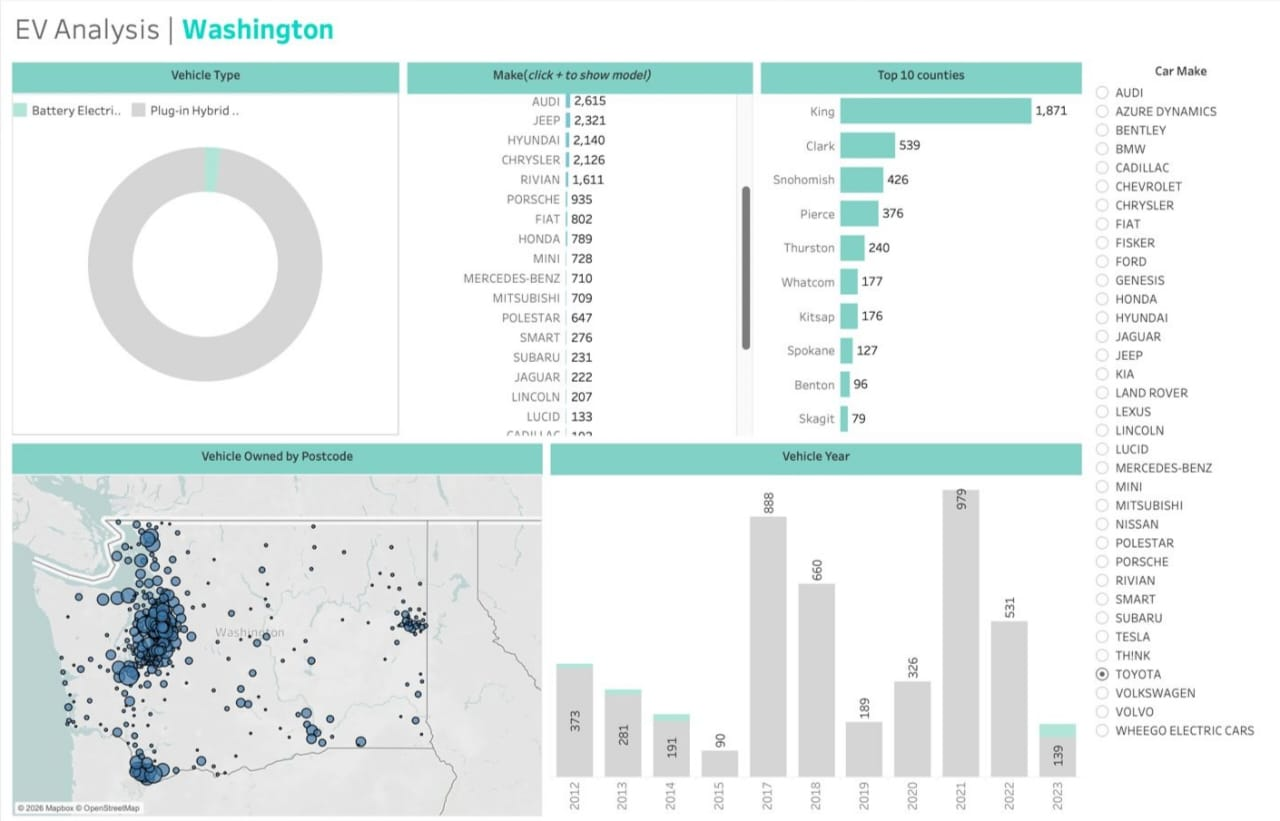

The dashboard page shown, as its layout file describes it:
{"tool":"tableau","page":{"name":"Dashboard 1","canvas":[1300,850],"ordinal":0},"visuals":[{"type":"text","box":[8,8,1284,62.1]},{"type":"worksheet","title":"Vehicle Type Donut","mark":"Pie","rows":["Calculation_0354000409198594","Calculation_0354000409198594"],"box":[8,70.1,399.7,386]},{"type":"worksheet","title":"Make & Model","mark":"Automatic","rows":["Make"],"cols":["DOL Vehicle ID"],"box":[407.7,70.1,358.5,386]},{"type":"worksheet","title":"Top 10 Counties","mark":"Automatic","rows":["County"],"cols":["DOL Vehicle ID"],"box":[766.2,70.1,332.8,386]},{"type":"parameter","param":"[Parameters].[Parameter 1]","box":[1099,70.1,193,702]},{"type":"legend","title":"Vehicle Type Donut","param":"[federated.0u8l1bv1nl4miz18bntms160w3fm].[none:Electric Vehicle Type:nk]","box":[10.5,111.8,407.3,34.3]},{"type":"worksheet","title":"Map","mark":"Automatic","box":[8,456.1,545.5,386]},{"type":"worksheet","title":"Year and Type","mark":"Bar","rows":["DOL Vehicle ID"],"cols":["Model Year"],"box":[553.5,456.1,545.5,386]}]}

Visuals, with their boxes in screenshot pixels (x1, y1, x2, y2), scaled from the page's 1300x850 canvas onto the 1280x821 screenshot:
text: box=[8, 8, 1272, 68]
"Vehicle Type Donut" worksheet (Pie marks): box=[8, 68, 401, 441]
"Make & Model" worksheet: box=[401, 68, 754, 441]
"Top 10 Counties" worksheet: box=[754, 68, 1082, 441]
parameter: box=[1082, 68, 1272, 746]
"Vehicle Type Donut" legend: box=[10, 108, 411, 141]
"Map" worksheet: box=[8, 441, 545, 813]
"Year and Type" worksheet (Bar marks): box=[545, 441, 1082, 813]
